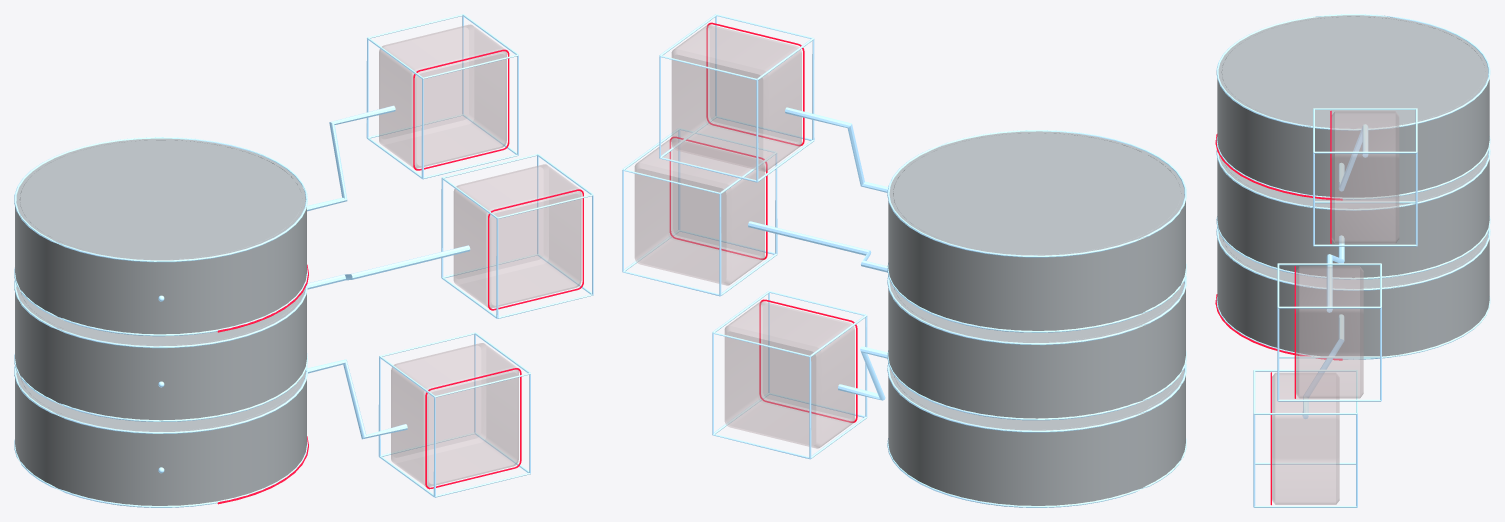
File: 02-data-architecture.glb
3 views of the same model, side by side, from view 1: azimuth 30°, elevation 25°; view 2: azimuth 150°, elevation 25°; view 3: azimuth 270°, elevation 25° (orthographic). The views are drawn at different scales.
Visible parts, largest first — view 1: BC thin clear technical glass, BC subtle ruby technical glass, BC cool glass edge, BC ruby signal edge; view 2: BC thin clear technical glass, BC subtle ruby technical glass, BC cool glass edge, BC ruby signal edge; view 3: BC thin clear technical glass, BC subtle ruby technical glass, BC cool glass edge, BC ruby signal edge.
Boxes of the visible parts, left/top/right/bottom form: BC thin clear technical glass: left=15, top=138, right=306, bottom=505; BC subtle ruby technical glass: left=379, top=24, right=581, bottom=486; BC cool glass edge: left=14, top=14, right=593, bottom=507; BC ruby signal edge: left=217, top=49, right=583, bottom=504; BC thin clear technical glass: left=888, top=131, right=1185, bottom=505; BC subtle ruby technical glass: left=634, top=24, right=854, bottom=448; BC cool glass edge: left=622, top=14, right=1186, bottom=507; BC ruby signal edge: left=669, top=22, right=857, bottom=422; BC thin clear technical glass: left=1217, top=15, right=1489, bottom=356; BC subtle ruby technical glass: left=1272, top=111, right=1399, bottom=504; BC cool glass edge: left=1216, top=14, right=1490, bottom=507; BC ruby signal edge: left=1215, top=111, right=1342, bottom=505.
Bounding box in the file's own units: 2.34 × 1.69 × 1.15.
